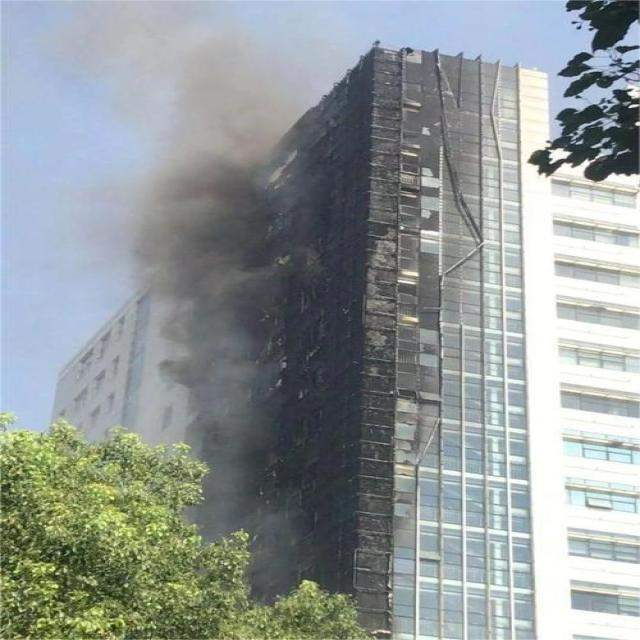Smoke: (68, 3, 316, 420)
